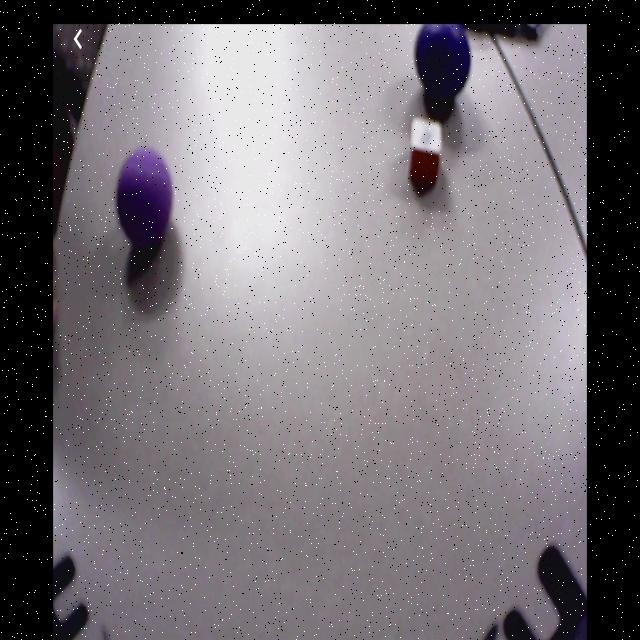ball: (118, 146, 174, 245), (415, 26, 472, 102)
